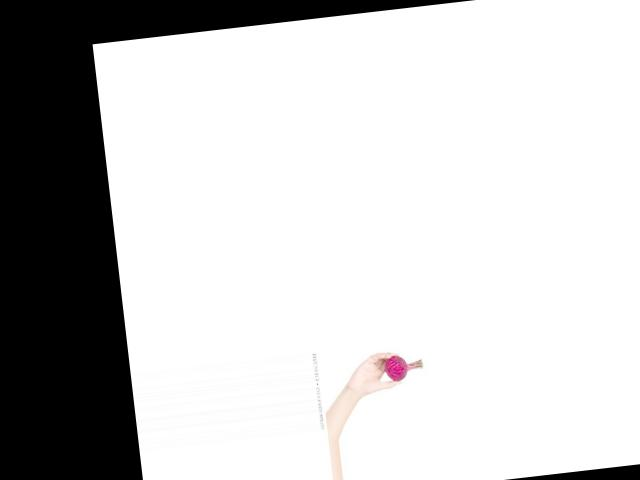beet: (383, 351, 424, 382)
